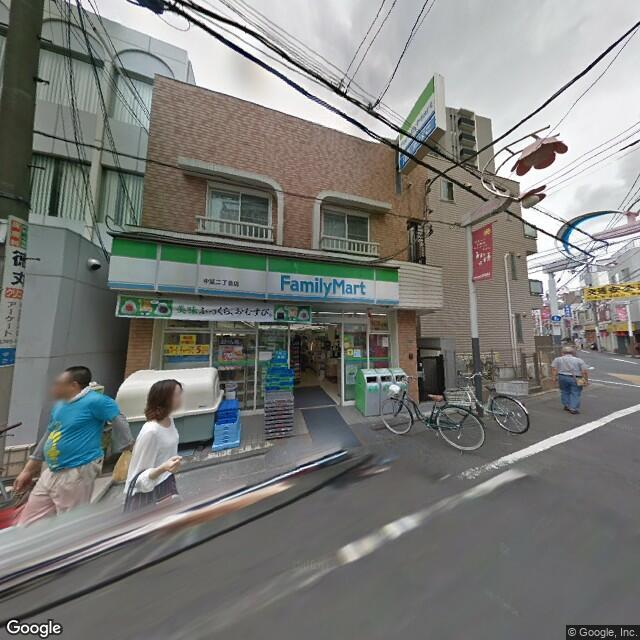family_mart: (109, 237, 401, 316), (396, 79, 436, 166), (275, 269, 367, 300)
